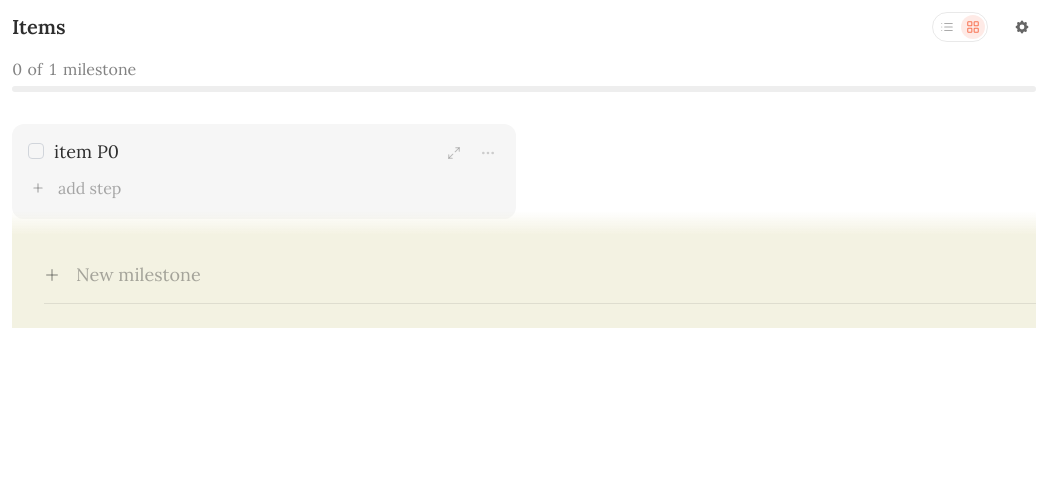
Test: Todo settings — as the owner › should offer Sharing with an email field and no daily-reset toggle
The image size is (1048, 477).
Expected: the text "item P0" is shown, 54,140 -> 119,163
Click the button titled "Settings". click: point(1022, 27)
box: 1008,13 -> 1036,41
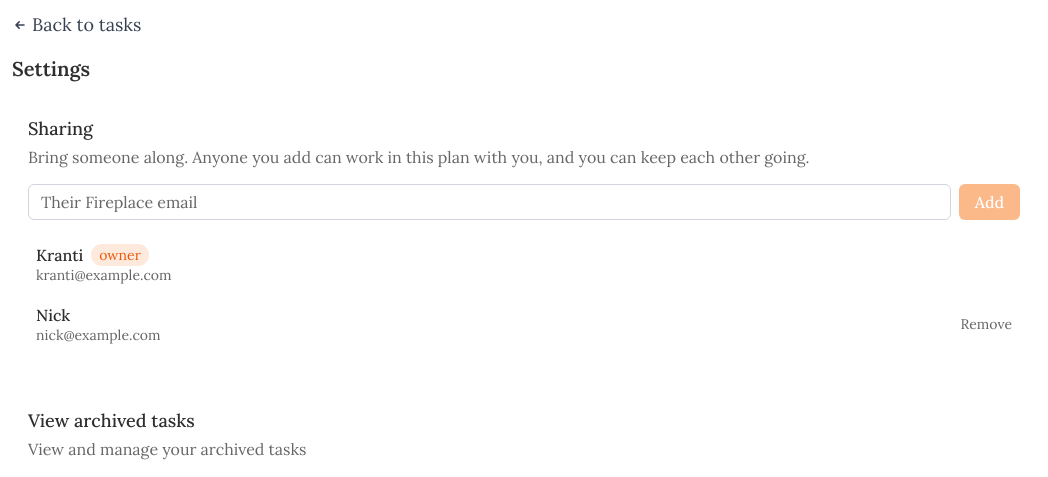
Now the text "Nick" is shown, box 36,304 -> 70,326
Now the checkbox is gone
Now the heading "Sharing" is shown, box 28,117 -> 93,140
